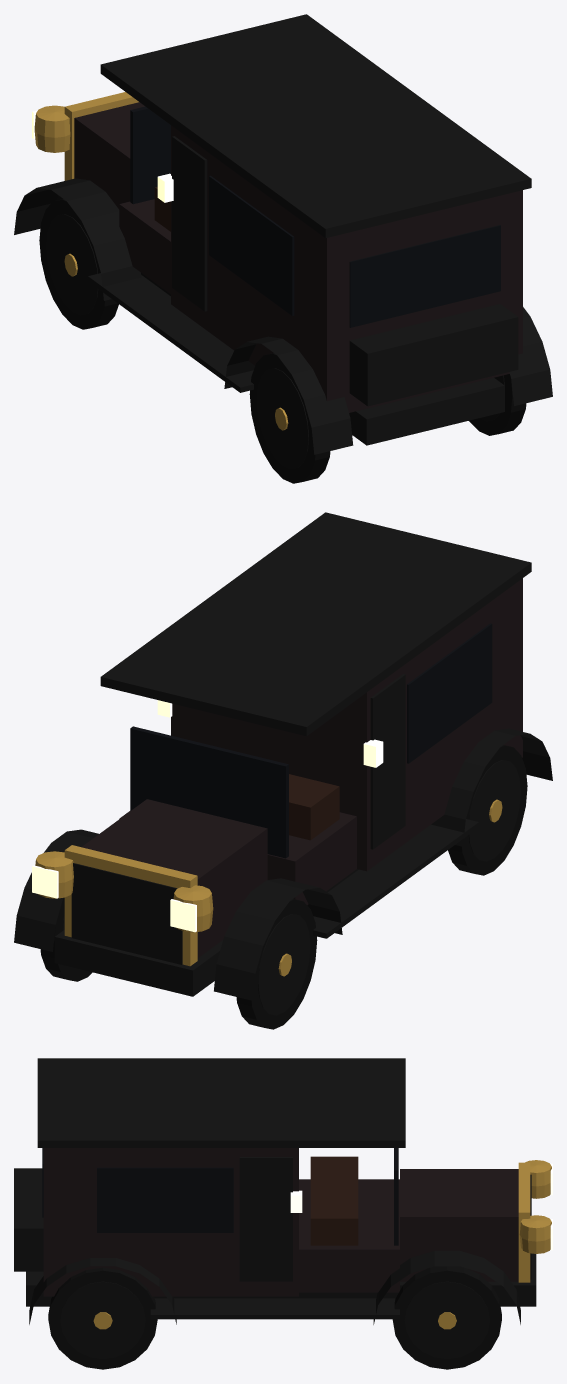
Rendered from motorcar.glb.
3 views of the same model, one above another, from view 1: azimuth 30°, elevation 25°; view 2: azimuth 150°, elevation 25°; view 3: azimuth 270°, elevation 25° (orthographic). The views are drawn at different scales.
Visible parts, largest first — view 1: Motorcar; view 2: Motorcar; view 3: Motorcar.
Boxes of the visible parts, x1,y1,x2,y2 form: Motorcar: [14, 14, 552, 483]; Motorcar: [14, 512, 552, 1029]; Motorcar: [14, 1058, 552, 1369].
Size of the model in its own units: 1.9 by 2.12 by 4.54.
